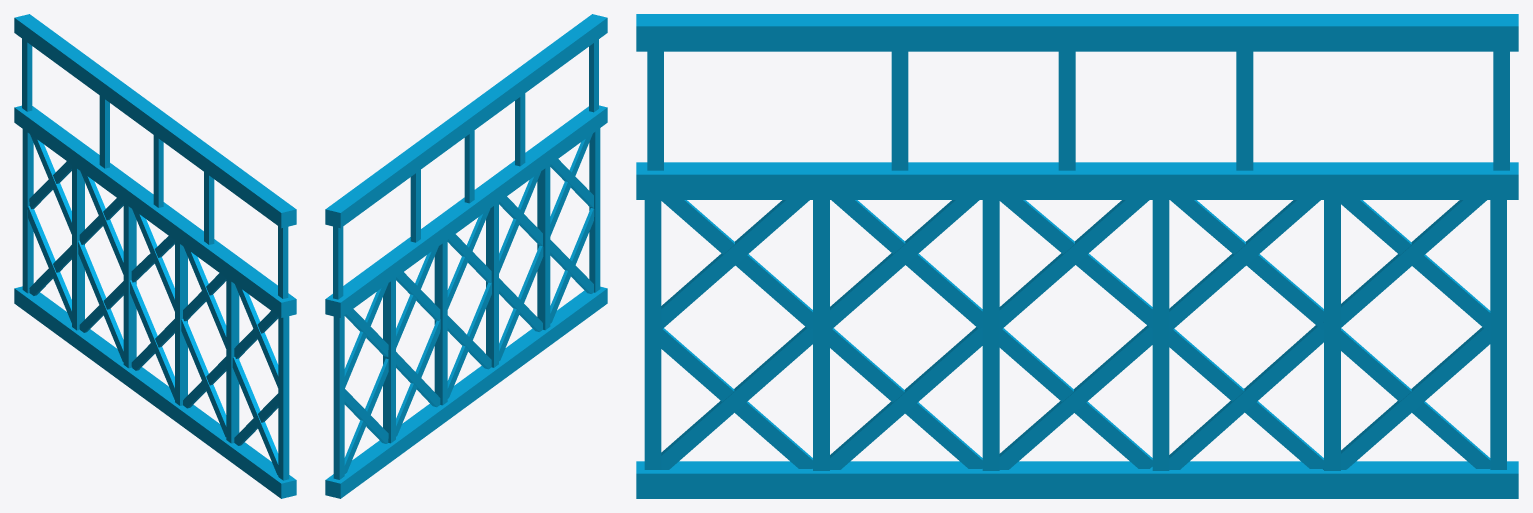
File: R_01_Fence_01.fbx
3 renders of one model, left to right at view 1: azimuth 30°, elevation 25°; view 2: azimuth 150°, elevation 25°; view 3: azimuth 270°, elevation 25°, orthographic. The views are drawn at different scales.
Parts seen in each view (by area): view 1: R_01_Fence_01; view 2: R_01_Fence_01; view 3: R_01_Fence_01.
Boxes of the visible parts, x1,y1,x2,y2 form: R_01_Fence_01: (14, 14, 296, 498); R_01_Fence_01: (325, 14, 607, 498); R_01_Fence_01: (636, 14, 1518, 498).
Bounding box in the file's own units: 6.71 × 121 × 204.
